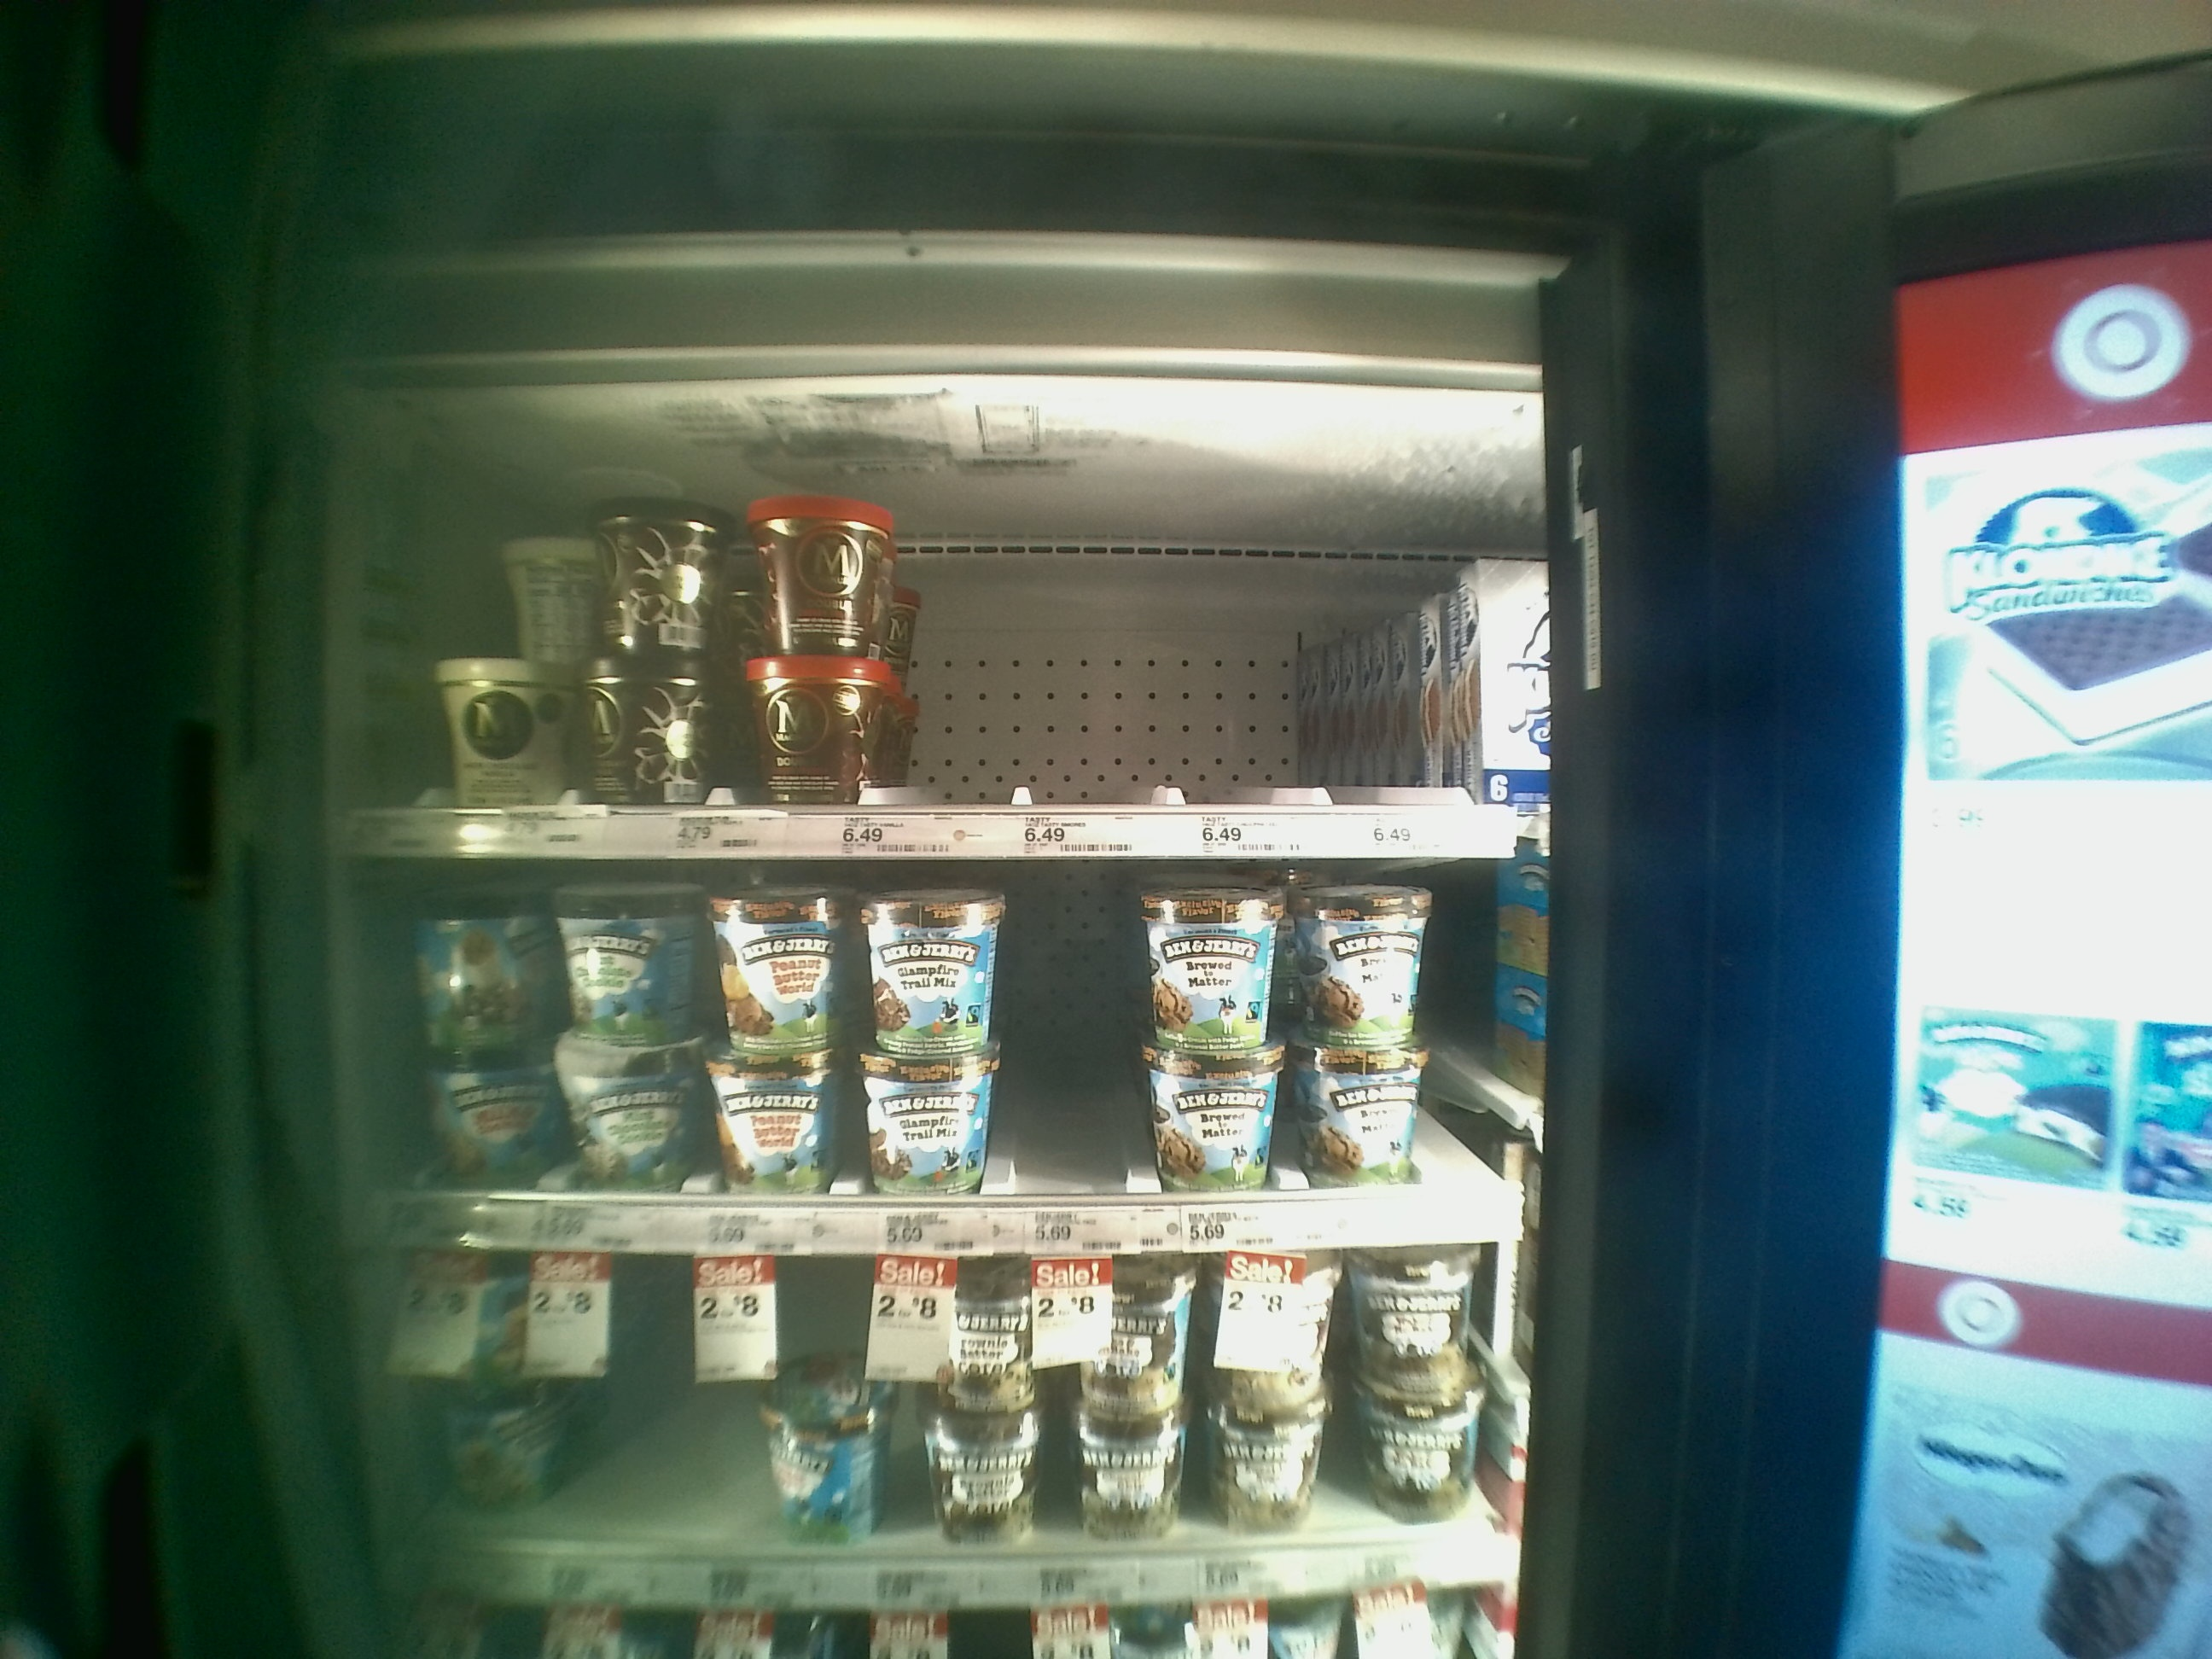ice-cream-shelf: (355, 425, 1538, 854), (354, 854, 1531, 1258), (354, 1256, 1521, 1605)
